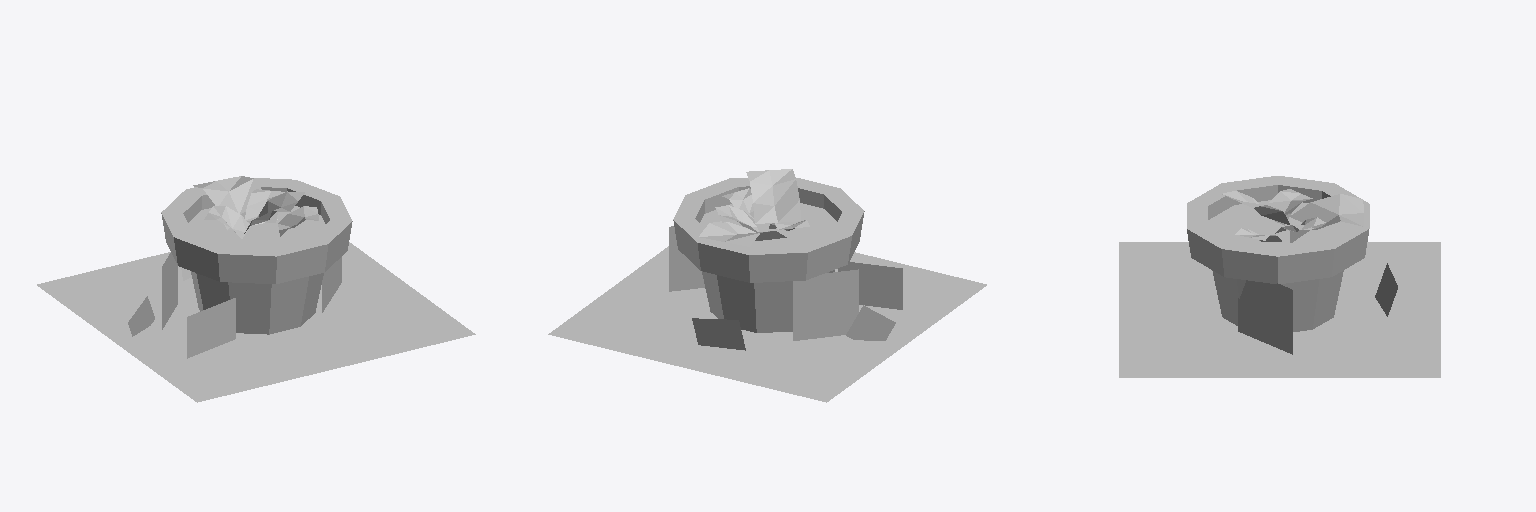
The model's file is caladio3.obj.
3 renders of one model, left to right at view 1: azimuth 30°, elevation 25°; view 2: azimuth 150°, elevation 25°; view 3: azimuth 270°, elevation 25°, orthographic.
Visible parts, largest first — view 1: Stylizedplants_model.001; view 2: Stylizedplants_model.001; view 3: Stylizedplants_model.001.
Part boxes in pixels (x1,y1,x2,y2): Stylizedplants_model.001: (37, 176, 475, 402); Stylizedplants_model.001: (548, 169, 986, 402); Stylizedplants_model.001: (1119, 176, 1440, 377).
Size of the model in its own units: 45.19 by 20.24 by 45.19.